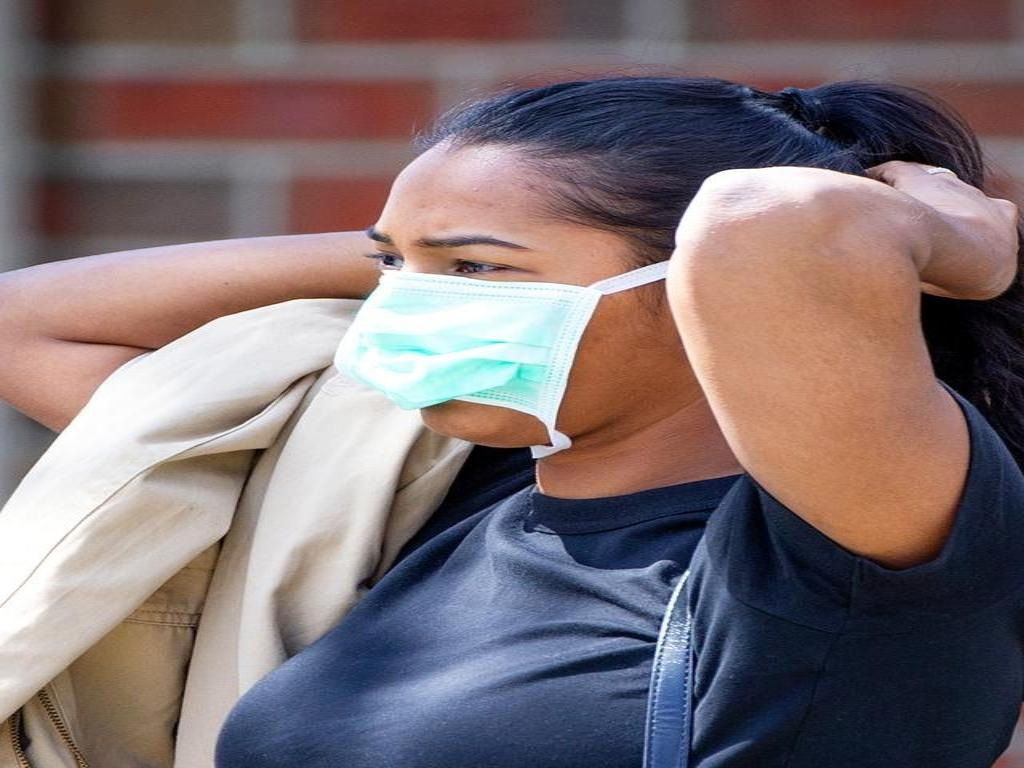mask_weared_incorrect: (326, 75, 862, 465)
